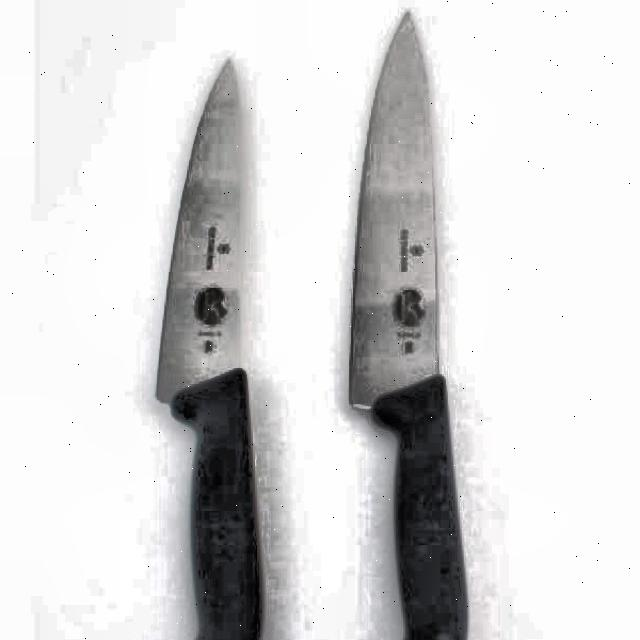knife: (346, 7, 474, 640), (150, 50, 271, 640)
